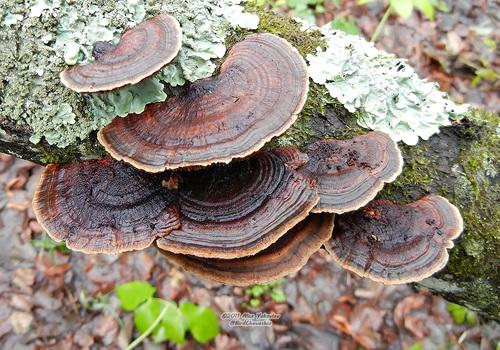poisonous_mushroom: (31, 28, 464, 287), (96, 31, 310, 173), (321, 192, 464, 285), (58, 12, 182, 93)
